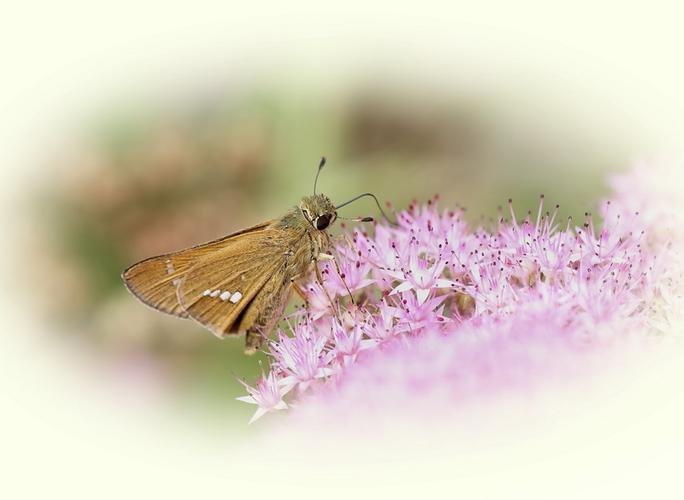Hesperiidae: (119, 157, 398, 360)
